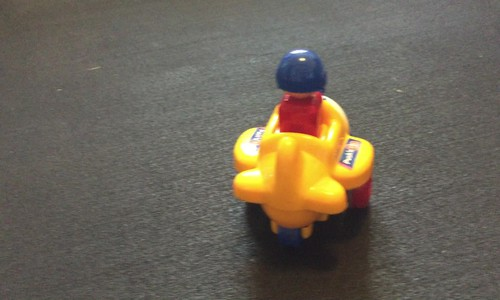toy: (231, 44, 386, 249)
